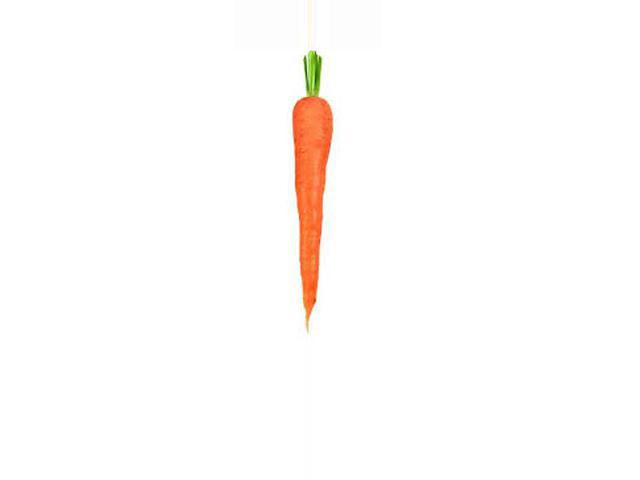carrot: (283, 93, 335, 330)
